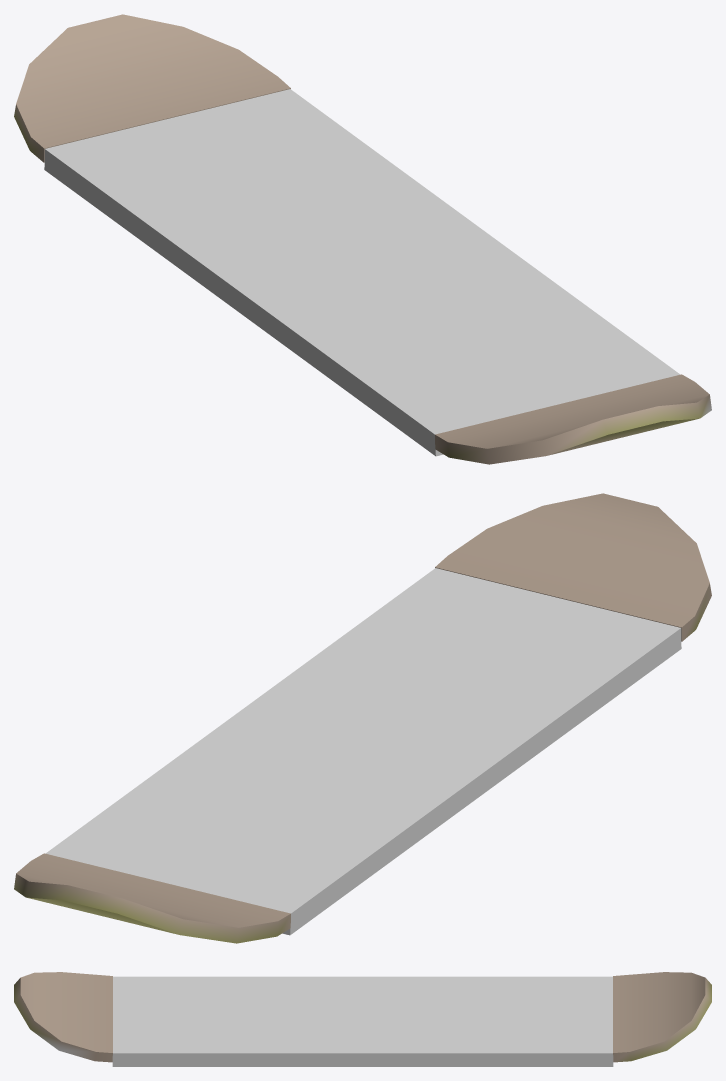
The model's file is Skateboard_Collidables.fbx.
3 renders of one model, top to bottom at view 1: azimuth 30°, elevation 25°; view 2: azimuth 150°, elevation 25°; view 3: azimuth 270°, elevation 25°, orthographic. The views are drawn at different scales.
Visible parts, largest first — view 1: Skateboard_Collider_01, Skateboard_Collider_02, Skateboard_Collider_03; view 2: Skateboard_Collider_01, Skateboard_Collider_03, Skateboard_Collider_02; view 3: Skateboard_Collider_01, Skateboard_Collider_02, Skateboard_Collider_03.
Boxes of the visible parts, <box> form: Skateboard_Collider_01: <box>44,89,679,456</box>; Skateboard_Collider_02: <box>14,14,290,162</box>; Skateboard_Collider_03: <box>435,374,711,464</box>; Skateboard_Collider_01: <box>46,568,681,935</box>; Skateboard_Collider_03: <box>435,493,711,641</box>; Skateboard_Collider_02: <box>14,853,290,943</box>; Skateboard_Collider_01: <box>112,976,613,1066</box>; Skateboard_Collider_02: <box>613,972,711,1062</box>; Skateboard_Collider_03: <box>14,972,112,1062</box>.
Bounding box in the file's own units: 44.65 × 11.44 × 171.
